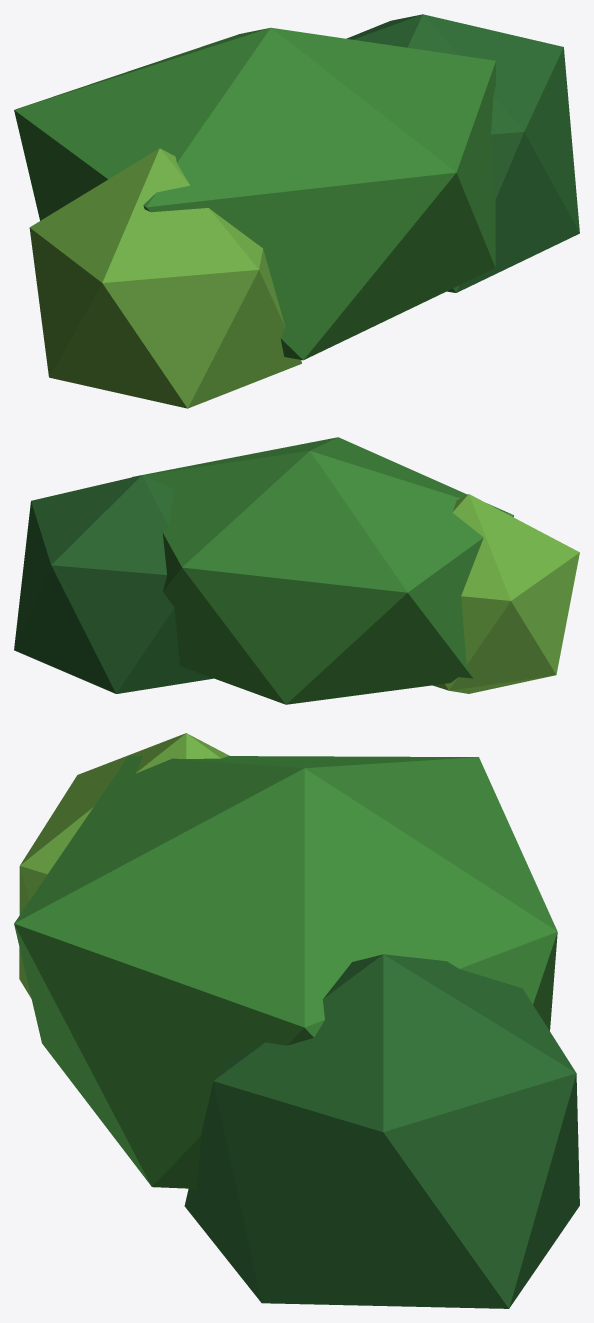
File: bush.glb
The picture shows the model from 3 angles, top to bottom: view 1: azimuth 30°, elevation 25°; view 2: azimuth 150°, elevation 25°; view 3: azimuth 270°, elevation 25°; orthographic projection. The views are drawn at different scales.
Parts seen in each view (by area): view 1: bush; view 2: bush; view 3: bush.
Part boxes in pixels (x1=…): bush: x1=14, y1=14, x2=579, y2=408; bush: x1=14, y1=437, x2=579, y2=704; bush: x1=14, y1=733, x2=579, y2=1308.
Size of the model in its own units: 1.13 by 0.5557 by 0.7183.
